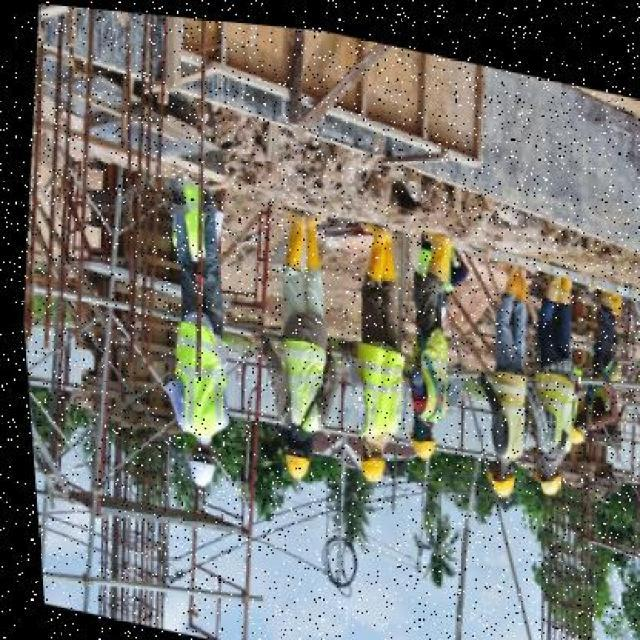helmet: (172, 440, 212, 489), (271, 435, 305, 475), (525, 454, 557, 490)
vest: (148, 305, 228, 433), (336, 320, 404, 434), (265, 325, 328, 431), (476, 348, 528, 452), (523, 357, 573, 436)
